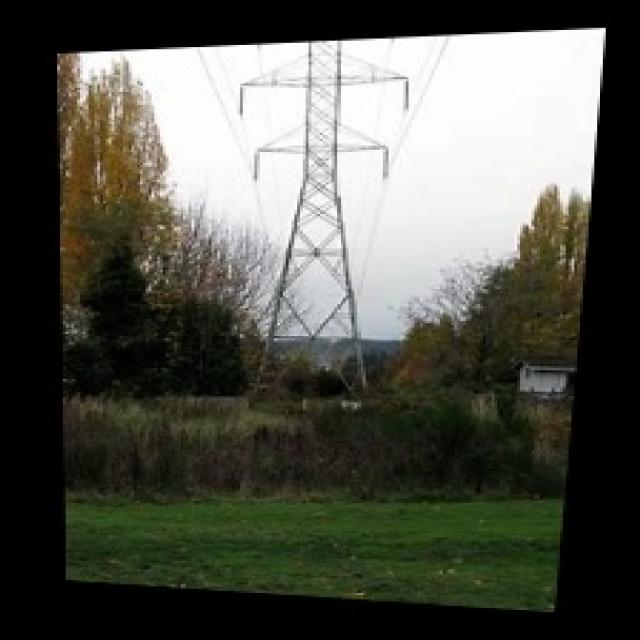utility poles: (212, 278, 310, 401), (334, 316, 445, 414)
